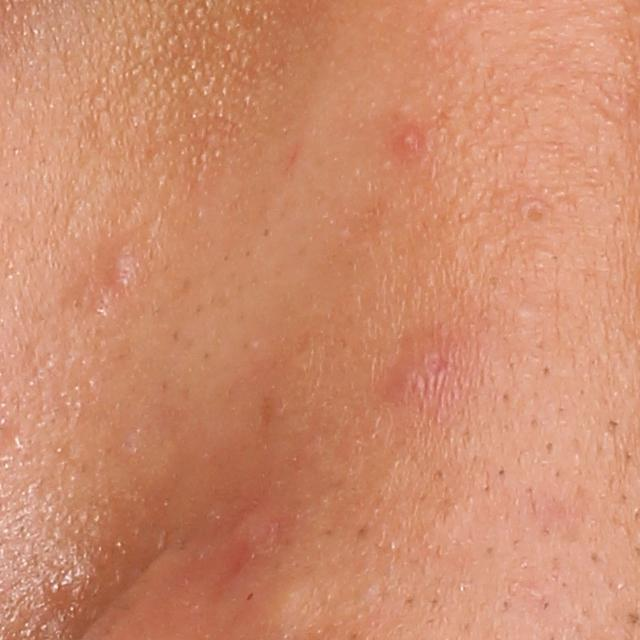comedo: (522, 199, 546, 224)
hypertrophic_scar: (123, 502, 285, 612)
papule: (95, 241, 142, 294), (381, 360, 437, 403)
